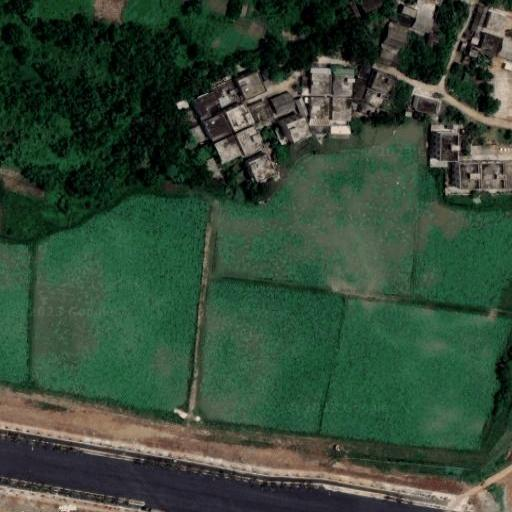building: (199, 111, 232, 144), (222, 101, 254, 134), (211, 81, 244, 112), (232, 125, 263, 157), (213, 134, 242, 165), (235, 72, 266, 101), (247, 99, 276, 130), (191, 92, 220, 121), (306, 42, 350, 61), (249, 152, 277, 181), (267, 90, 297, 117), (176, 98, 201, 130), (383, 23, 410, 49), (479, 163, 505, 189), (288, 117, 313, 143), (370, 69, 396, 94), (329, 67, 353, 94), (363, 87, 390, 110), (411, 94, 439, 116), (312, 94, 331, 126), (460, 163, 481, 191), (330, 94, 351, 121), (311, 66, 330, 95), (439, 134, 460, 160), (479, 33, 504, 54), (472, 9, 491, 35), (412, 13, 434, 34), (486, 13, 508, 34), (188, 124, 208, 147), (356, 65, 376, 88), (467, 32, 483, 58), (351, 83, 368, 103), (360, 0, 384, 14), (382, 43, 400, 60), (399, 5, 418, 19), (499, 39, 512, 59), (330, 125, 352, 134), (302, 77, 312, 95), (504, 165, 512, 187), (350, 1, 360, 18), (429, 30, 441, 42), (462, 29, 474, 40), (461, 41, 470, 52), (464, 54, 471, 62)
